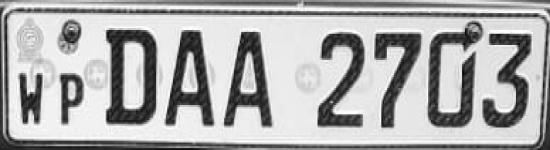0: (422, 24, 478, 133)
2: (311, 26, 368, 133)
3: (478, 25, 536, 134)
7: (368, 25, 424, 136)
A: (218, 23, 282, 137), (159, 24, 217, 132)
D: (101, 22, 160, 131)
P: (57, 66, 86, 129)
W: (14, 66, 52, 134)
